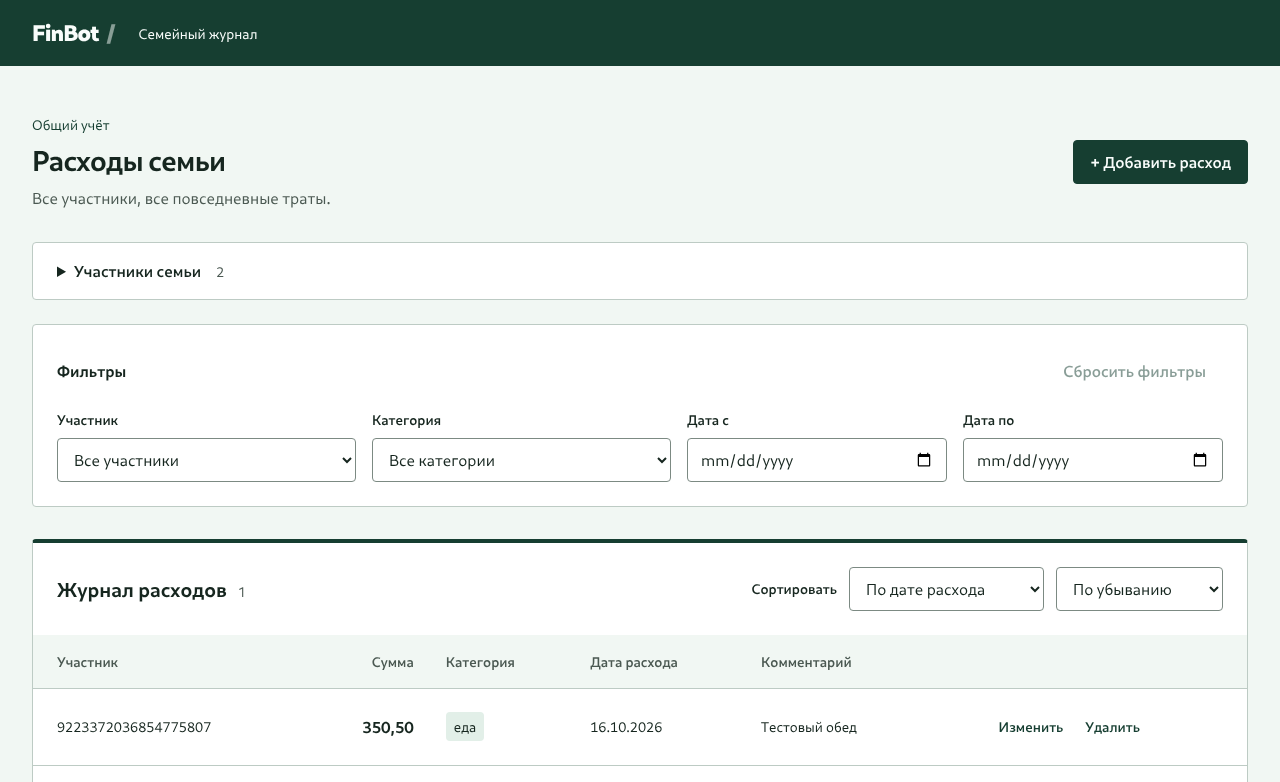
Test: expense journal › validates required fields and retains invalid values without a POST
The width and height of the screenshot is (1280, 782).
Check: the text "Тестовый обед" is shown, box [745,689,974,765]
Click the button "+ Добавить расход".
click(1161, 162)  # box [1073,140,1248,184]
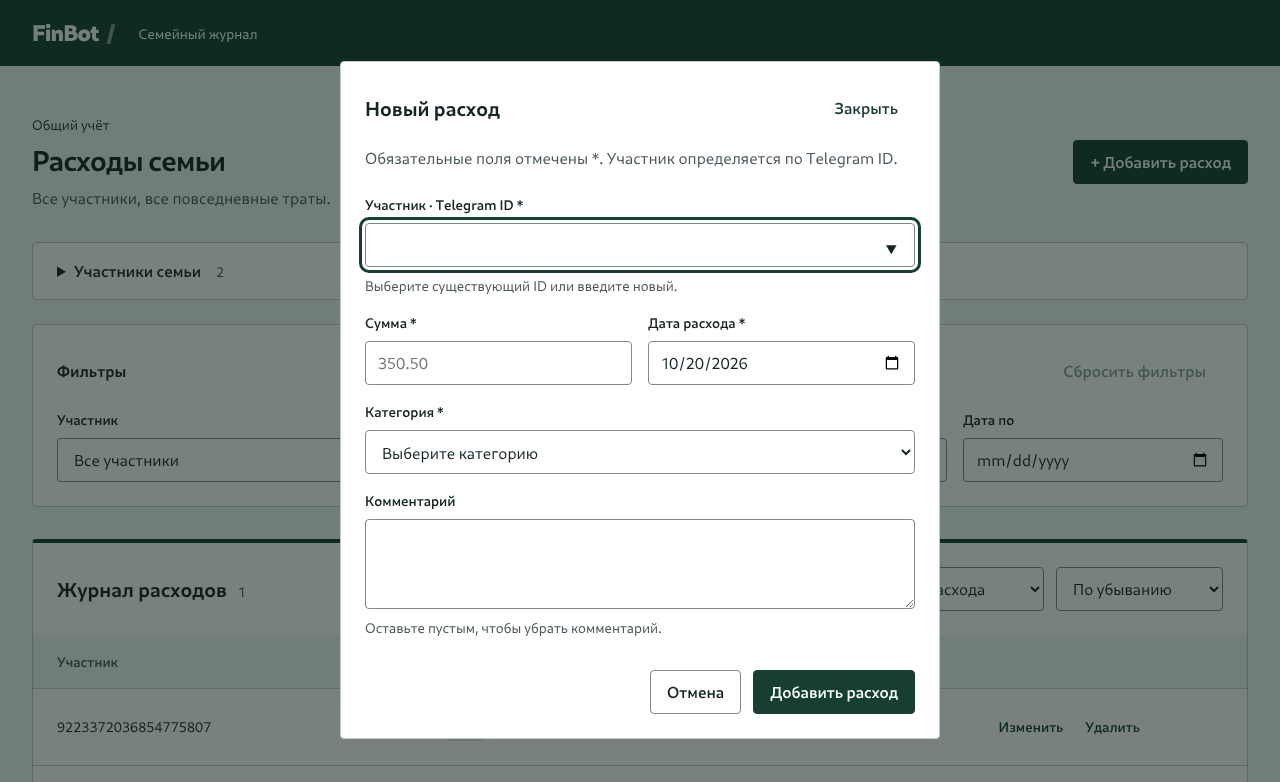
Type "0.001" into the field labelled "Сумма *".
click(498, 363); type("0.001")  # box [365,341,632,385]
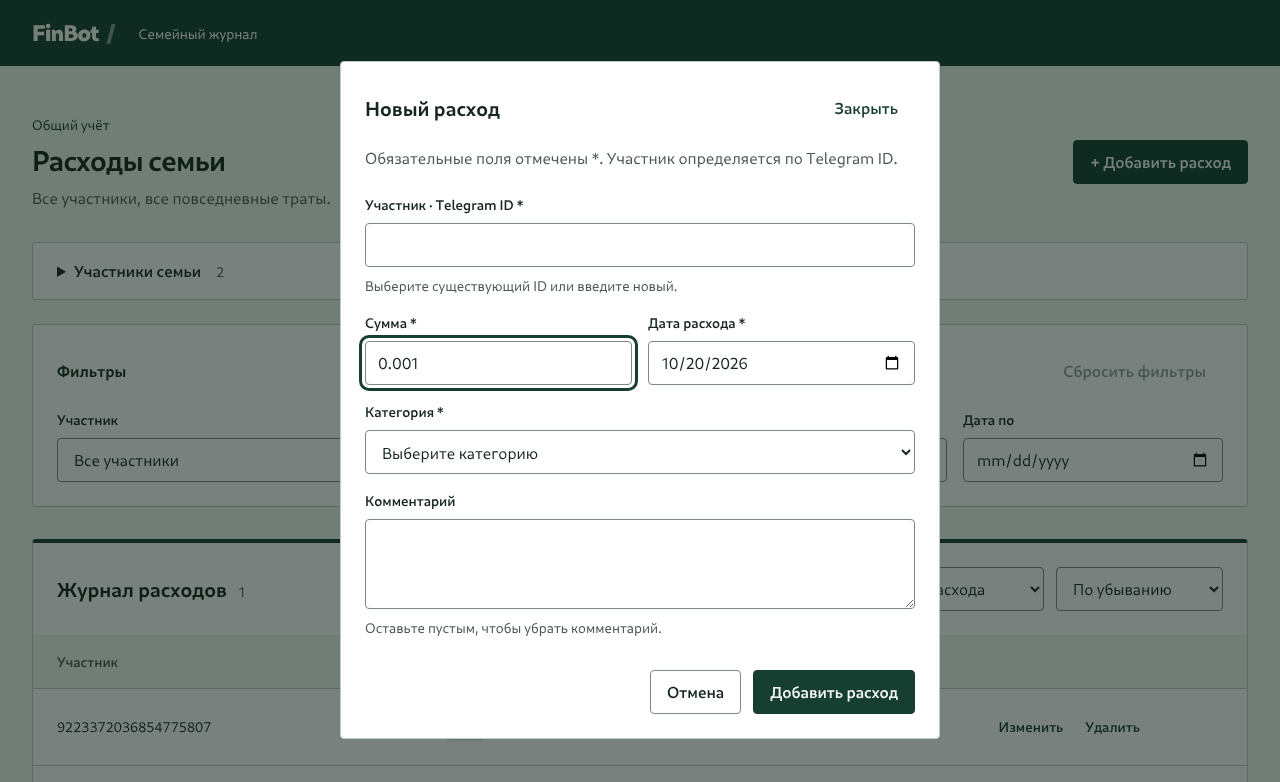
Type "01" into the field labelled "Участник · Telegram ID *".
click(640, 245); type("01")  # box [365,223,915,267]
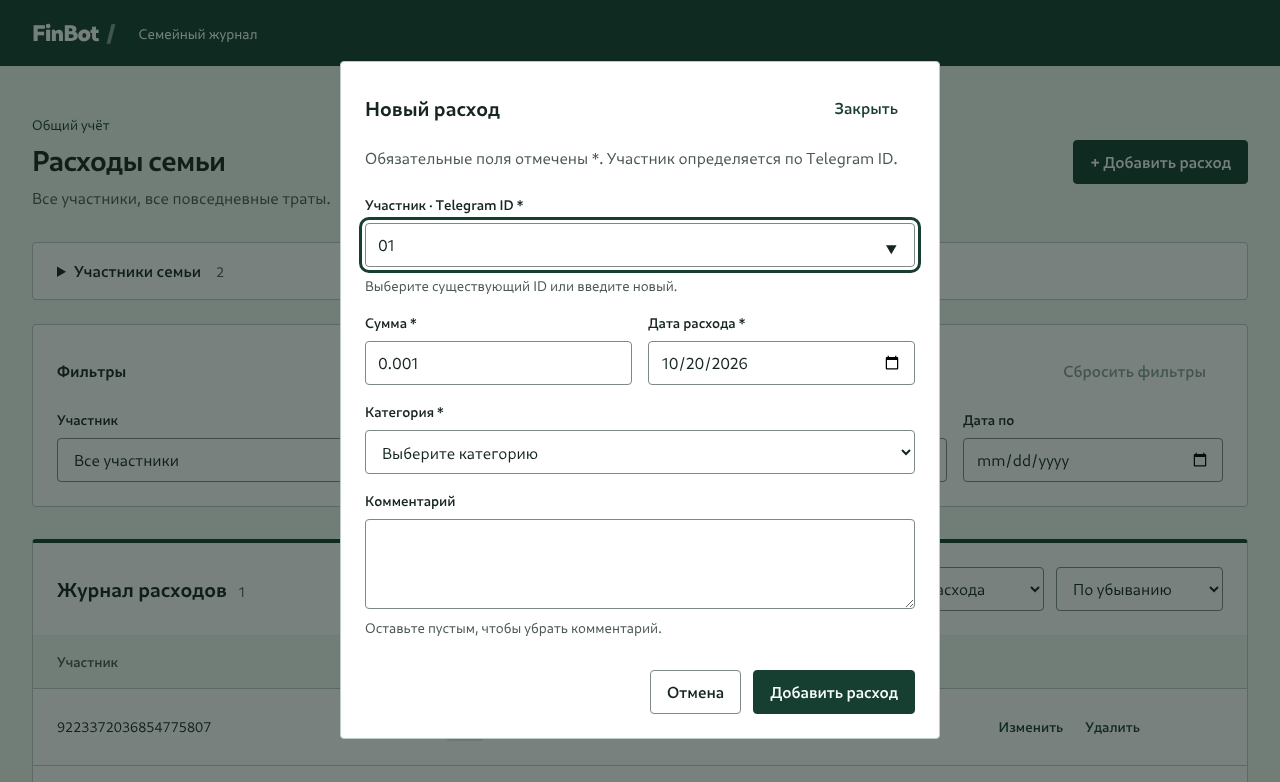
Click the button "Добавить расход".
click(834, 692)  # box [753,670,915,714]
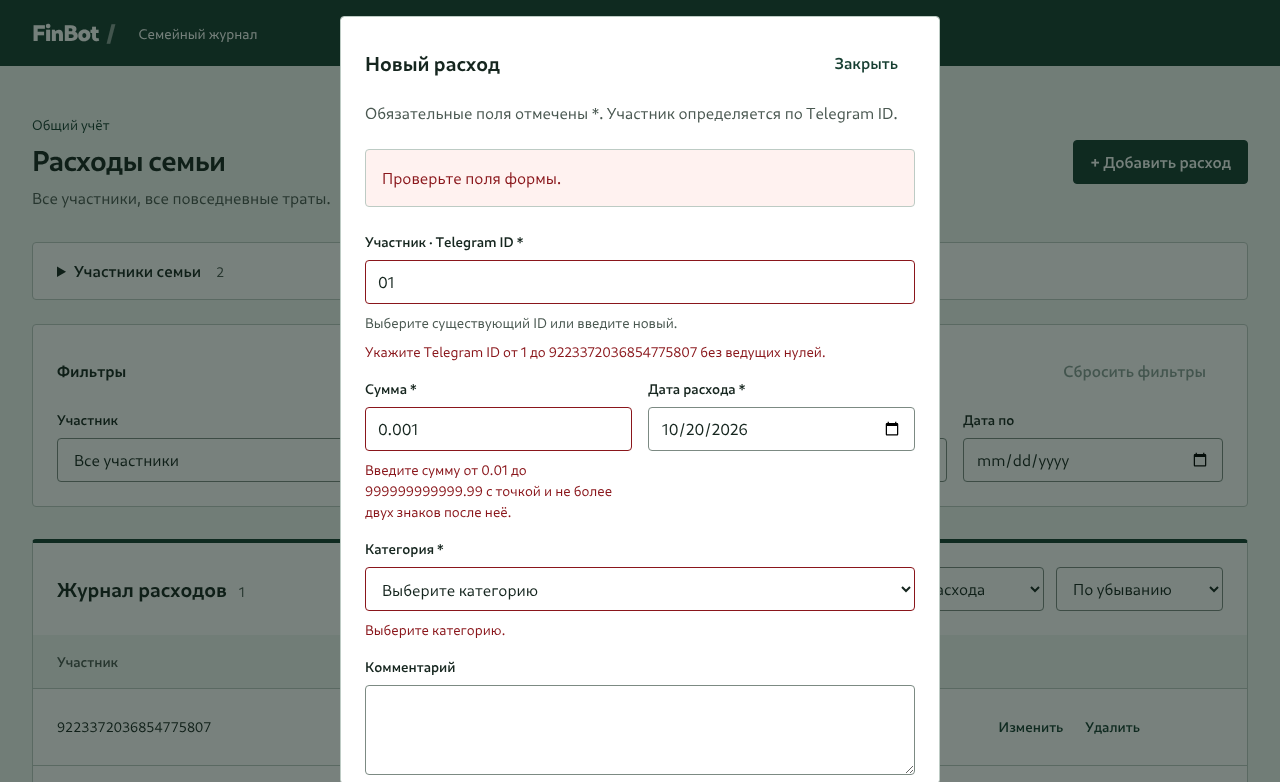
Check: the text "Проверьте поля формы." is shown, box [365,149,915,207]
